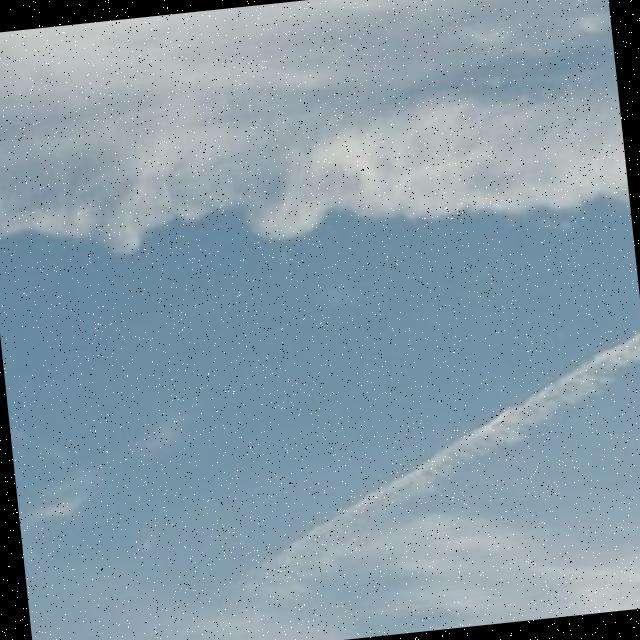Ci: (1, 1, 640, 621)
